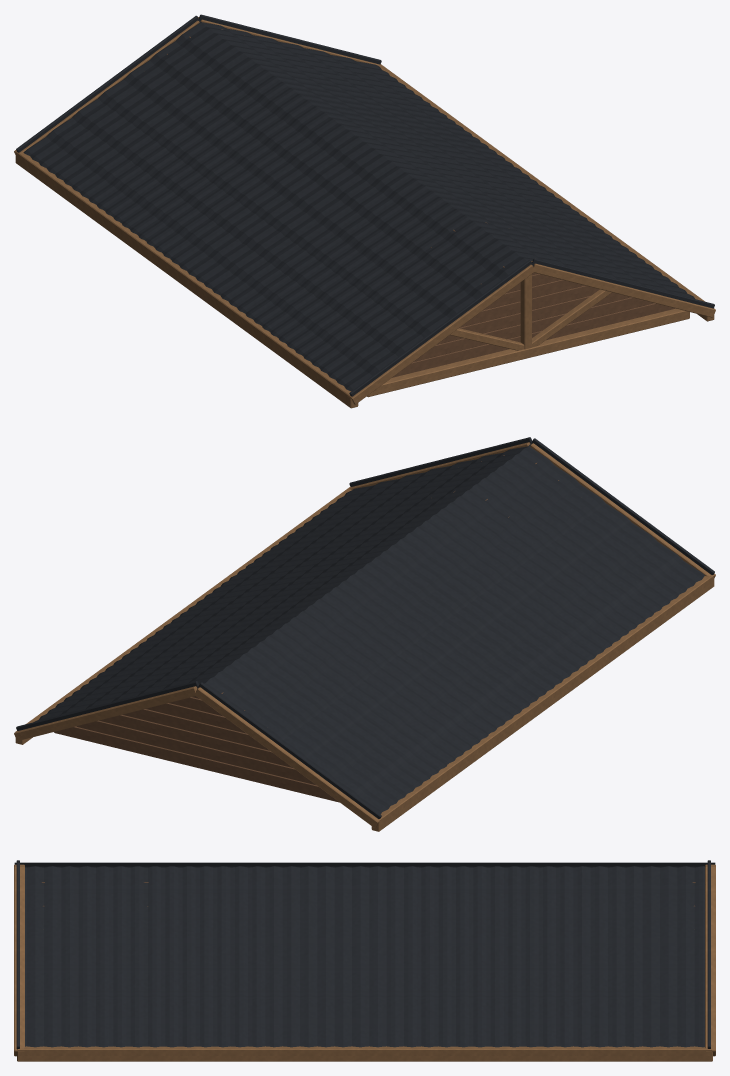
The model's file is cabin_roof.glb.
The picture shows the model from 3 angles, top to bottom: view 1: azimuth 30°, elevation 25°; view 2: azimuth 150°, elevation 25°; view 3: azimuth 270°, elevation 25°; orthographic projection. The views are drawn at different scales.
Parts seen in each view (by area): view 1: Roof_and_gables; view 2: Roof_and_gables; view 3: Roof_and_gables.
Part boxes in pixels (bbox=[...]): Roof_and_gables: bbox=[14, 14, 715, 408]; Roof_and_gables: bbox=[14, 437, 715, 831]; Roof_and_gables: bbox=[14, 860, 715, 1061].
Size of the model in its own units: 5.61 by 1.54 by 9.02.
4 materials, 4 textured.
